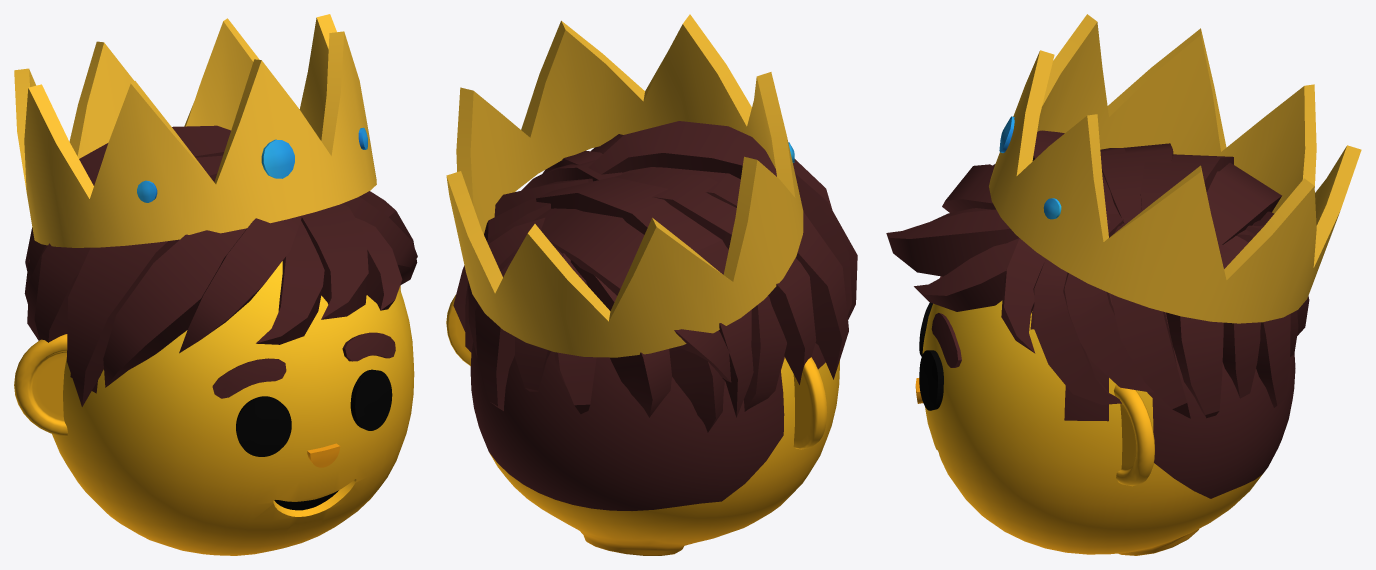
Rendered from prince.gltf.
3 views of the same model, side by side, from view 1: azimuth 30°, elevation 25°; view 2: azimuth 150°, elevation 25°; view 3: azimuth 270°, elevation 25° (orthographic). The views are drawn at different scales.
Visible parts, largest first — view 1: Roundcube.161, Circle.835, Cube.2043, Circle.832, Cylinder.133, Circle.834, Circle.833; view 2: Circle.835, Cube.2043, Roundcube.161, Cylinder.133; view 3: Circle.835, Roundcube.161, Cube.2043, Cylinder.133, Circle.832, Circle.834.
Boxes of the visible parts, x1,y1,x2,y2 form: Roundcube.161: (52,261,414,555); Circle.835: (14,14,376,247); Cube.2043: (24,125,417,406); Circle.832: (236,369,392,456); Cylinder.133: (14,285,400,436); Circle.834: (212,332,395,398); Circle.833: (307,443,340,467); Circle.835: (446,14,803,357); Cube.2043: (453,121,857,432); Roundcube.161: (470,342,839,555); Cylinder.133: (446,295,827,449); Circle.835: (989,14,1361,323); Roundcube.161: (922,293,1295,555); Cube.2043: (886,130,1309,418); Cylinder.133: (1114,384,1154,486); Circle.832: (919,302,943,410); Circle.834: (931,276,961,367).
Bounding box in the file's own units: 1.76 × 2.21 × 1.93.
2 materials, 2 textured.
